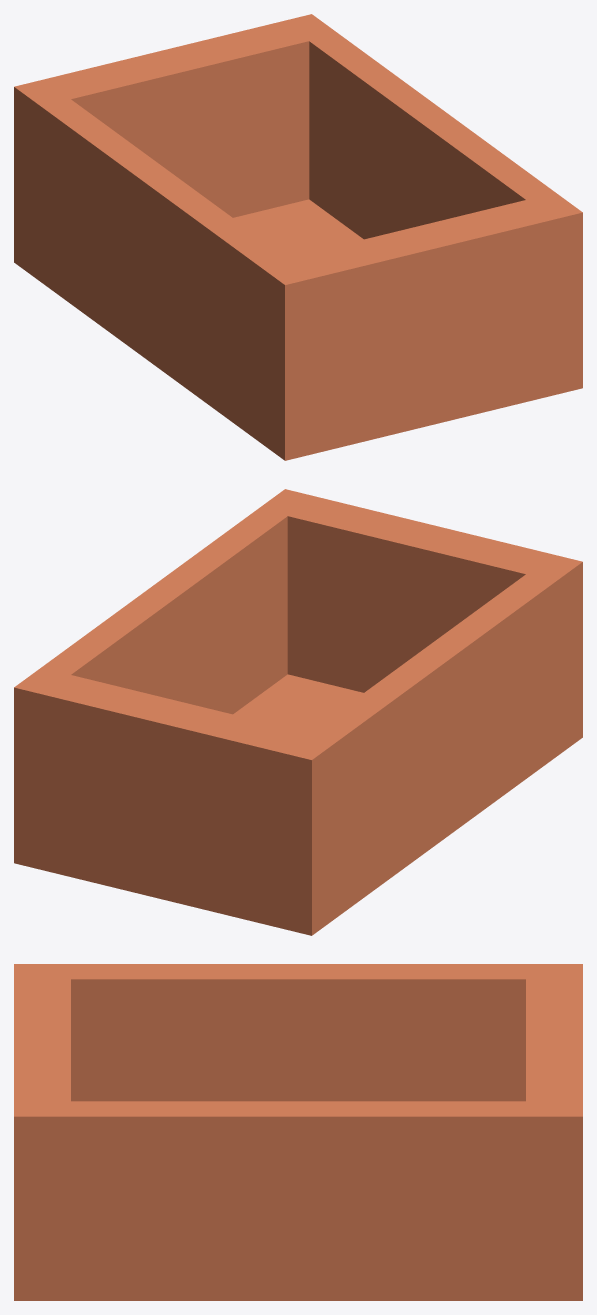
The model's file is LAATIKKO.fbx.
The picture shows the model from 3 angles, top to bottom: view 1: azimuth 30°, elevation 25°; view 2: azimuth 150°, elevation 25°; view 3: azimuth 270°, elevation 25°; orthographic projection. The views are drawn at different scales.
Visible parts, largest first — view 1: Cube.003; view 2: Cube.003; view 3: Cube.003.
Boxes of the visible parts, x1=… form: Cube.003: x1=14, y1=14, x2=582, y2=460; Cube.003: x1=14, y1=489, x2=582, y2=935; Cube.003: x1=14, y1=964, x2=582, y2=1300.
Size of the model in its own units: 2 by 1.13 by 3.15.
